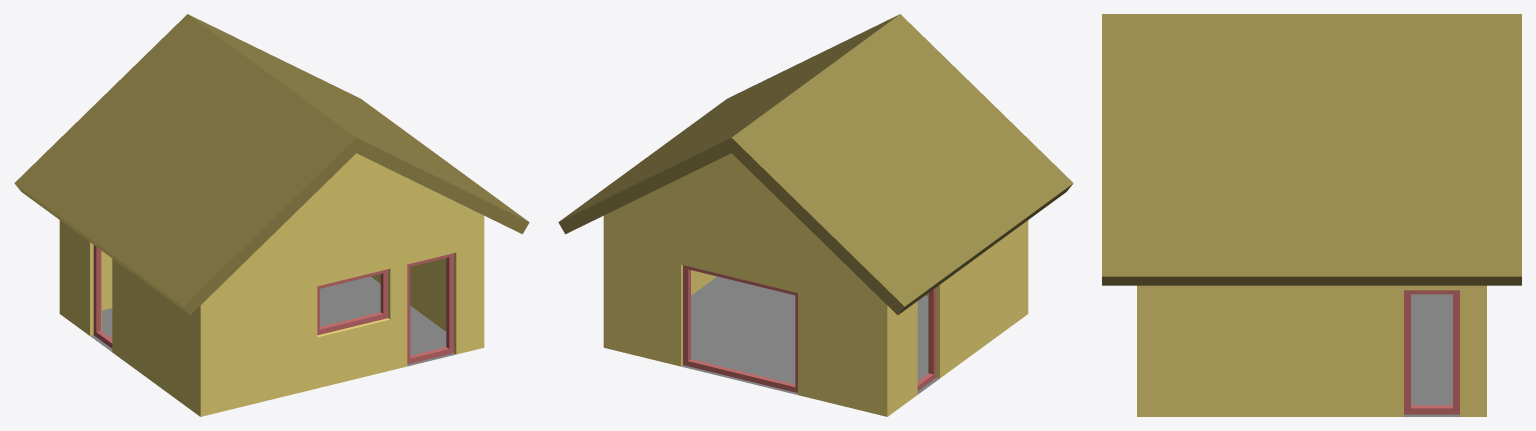
Rendered from result.glb.
3 renders of one model, left to right at view 1: azimuth 30°, elevation 25°; view 2: azimuth 150°, elevation 25°; view 3: azimuth 270°, elevation 25°, orthographic. The views are drawn at different scales.
Parts seen in each view (by area): view 1: d6c30dec-2ebc-442e-a402-e1d032b9ee27__undefined (×2), 6f025901-00b7-4cbe-80b1-dd14e45a42c7__undefined, 5708457f-3fc1-4f8b-affc-20141d928fca__Plane_6, ec5c6a66-f6b4-439b-ad39-62788c817e1f__Box, 3a2784e1-93af-4ac6-94ae-98982c437507__Box_3, e219bb36-5492-406c-a851-b9b8ac79f8ac__Box_12; view 2: d6c30dec-2ebc-442e-a402-e1d032b9ee27__undefined (×2), 6f025901-00b7-4cbe-80b1-dd14e45a42c7__undefined, 5708457f-3fc1-4f8b-affc-20141d928fca__Plane_6, 1265f29d-c20d-450f-b007-0b87a95b6225__Box_9, e219bb36-5492-406c-a851-b9b8ac79f8ac__Box_12; view 3: d6c30dec-2ebc-442e-a402-e1d032b9ee27__undefined, 6f025901-00b7-4cbe-80b1-dd14e45a42c7__undefined, 5708457f-3fc1-4f8b-affc-20141d928fca__Plane_6, 71f027f7-9c95-4f4b-94f4-4764dec2857e__Box_15.
Boxes of the visible parts, left/top/right/bottom form: d6c30dec-2ebc-442e-a402-e1d032b9ee27__undefined (×2): left=14, top=14, right=529, bottom=315; 6f025901-00b7-4cbe-80b1-dd14e45a42c7__undefined: left=59, top=153, right=484, bottom=416; 5708457f-3fc1-4f8b-affc-20141d928fca__Plane_6: left=90, top=276, right=455, bottom=366; ec5c6a66-f6b4-439b-ad39-62788c817e1f__Box: left=407, top=253, right=453, bottom=364; 3a2784e1-93af-4ac6-94ae-98982c437507__Box_3: left=317, top=269, right=388, bottom=335; e219bb36-5492-406c-a851-b9b8ac79f8ac__Box_12: left=93, top=245, right=112, bottom=348; d6c30dec-2ebc-442e-a402-e1d032b9ee27__undefined (×2): left=558, top=14, right=1073, bottom=315; 6f025901-00b7-4cbe-80b1-dd14e45a42c7__undefined: left=603, top=153, right=1028, bottom=416; 5708457f-3fc1-4f8b-affc-20141d928fca__Plane_6: left=681, top=276, right=939, bottom=394; 1265f29d-c20d-450f-b007-0b87a95b6225__Box_9: left=683, top=265, right=797, bottom=392; e219bb36-5492-406c-a851-b9b8ac79f8ac__Box_12: left=917, top=287, right=936, bottom=390; d6c30dec-2ebc-442e-a402-e1d032b9ee27__undefined: left=1102, top=14, right=1521, bottom=285; 6f025901-00b7-4cbe-80b1-dd14e45a42c7__undefined: left=1137, top=285, right=1486, bottom=416; 5708457f-3fc1-4f8b-affc-20141d928fca__Plane_6: left=1404, top=294, right=1459, bottom=416; 71f027f7-9c95-4f4b-94f4-4764dec2857e__Box_15: left=1404, top=290, right=1459, bottom=414.
Bounding box in the file's own units: 711 × 500 × 600.
